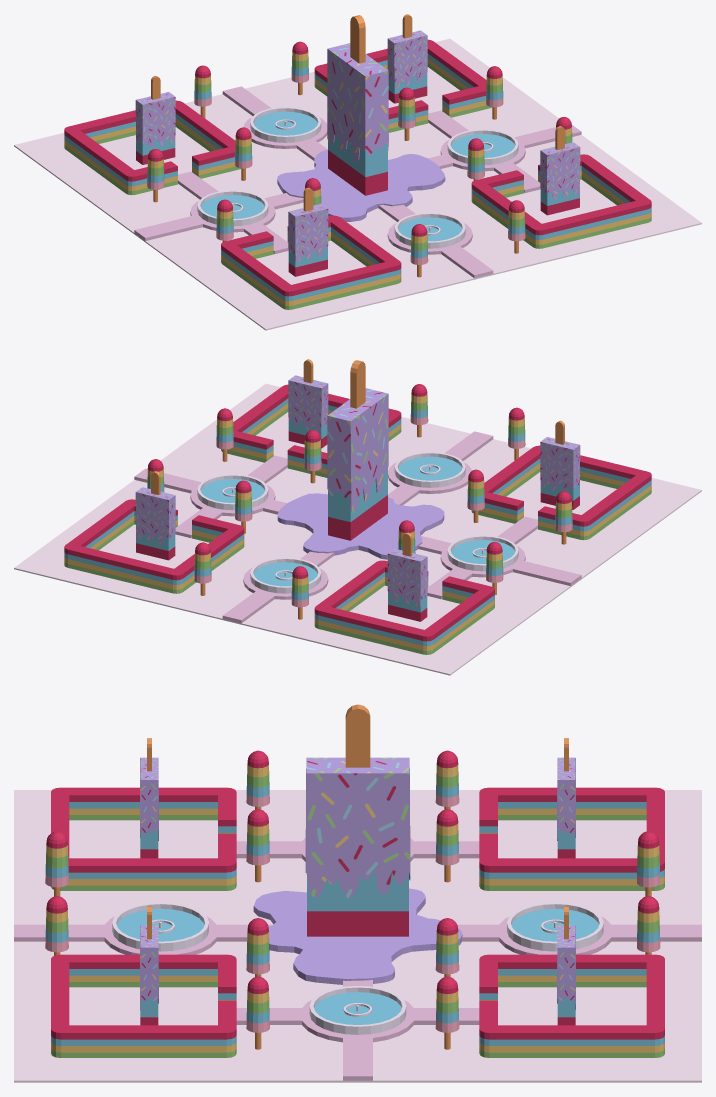
File: Central_park.fbx
The picture shows the model from 3 angles, top to bottom: view 1: azimuth 30°, elevation 25°; view 2: azimuth 150°, elevation 25°; view 3: azimuth 270°, elevation 25°; orthographic projection. The views are drawn at different scales.
Visible parts, largest first — view 1: Cube.032; view 2: Cube.032; view 3: Cube.032.
Boxes of the visible parts, left/top/right/bottom form: Cube.032: left=14, top=14, right=701, bottom=330; Cube.032: left=14, top=359, right=701, bottom=675; Cube.032: left=14, top=704, right=701, bottom=1082.
Size of the model in its own units: 13296 by 4917 by 13296.
Materials: 2 (2 with a texture image).
